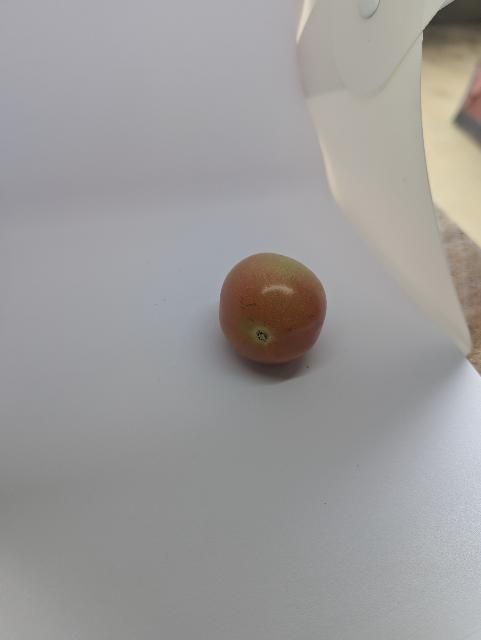turning: (212, 249, 340, 361)
